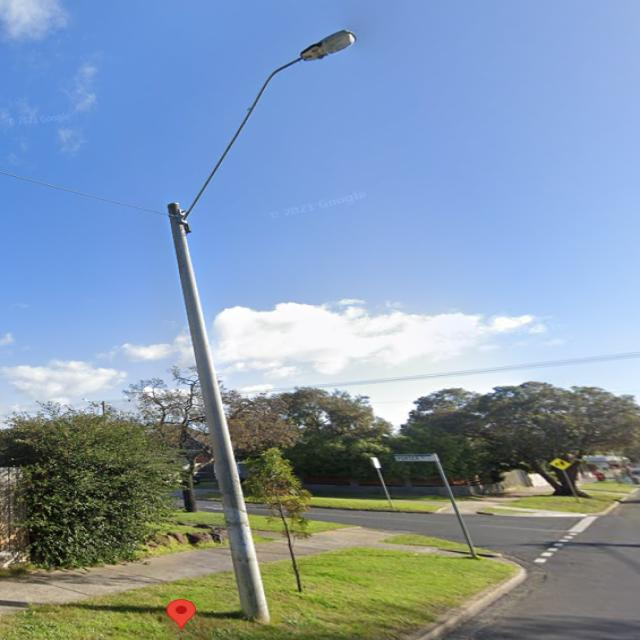concrete-pole: (168, 201, 269, 621)
mid mount suitable pole: (168, 28, 356, 622)
streetlight: (178, 28, 358, 226)
